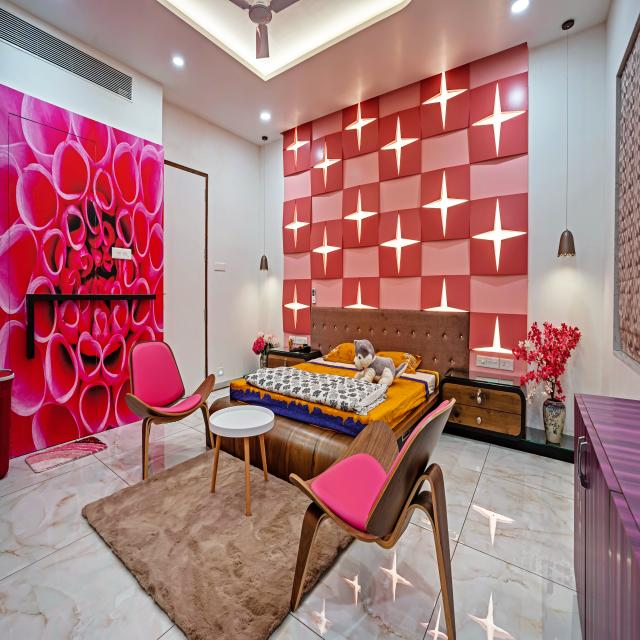floor: (0, 420, 188, 640), (424, 433, 581, 640), (267, 508, 448, 640), (148, 408, 211, 476), (205, 386, 230, 410), (418, 479, 431, 495)
wall: (282, 42, 528, 377), (0, 84, 164, 460), (527, 22, 607, 437), (162, 99, 260, 391), (602, 0, 640, 399), (259, 138, 284, 347), (526, 381, 549, 430), (512, 341, 519, 348)
